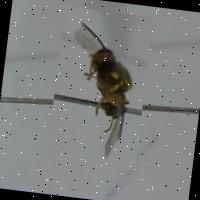Oriental-fruit-fly: (45, 5, 152, 167)
